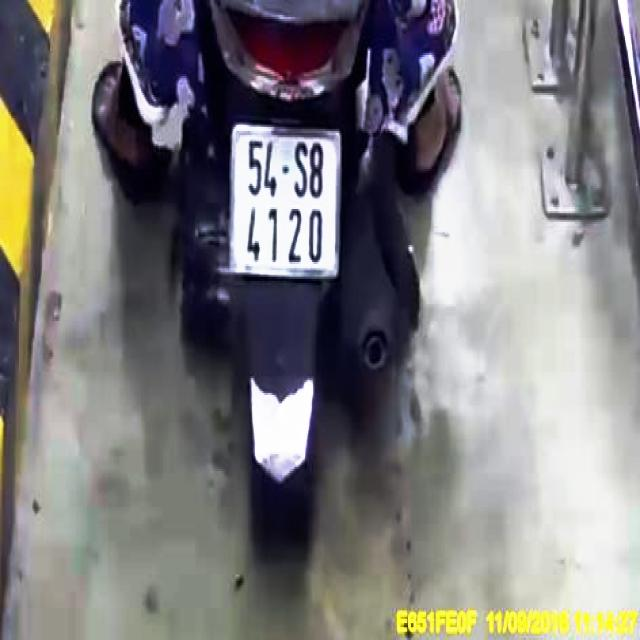license_plate: (233, 127, 341, 276)
